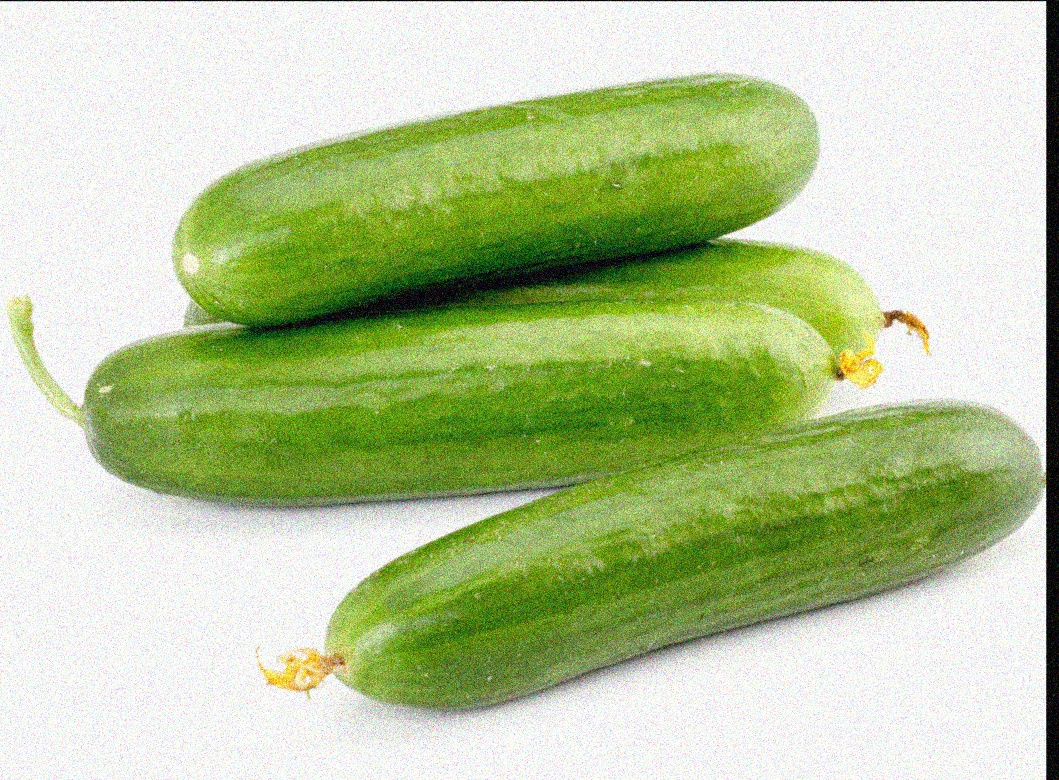cucumber: (324, 421, 1043, 689), (70, 285, 848, 504), (169, 95, 815, 324)
